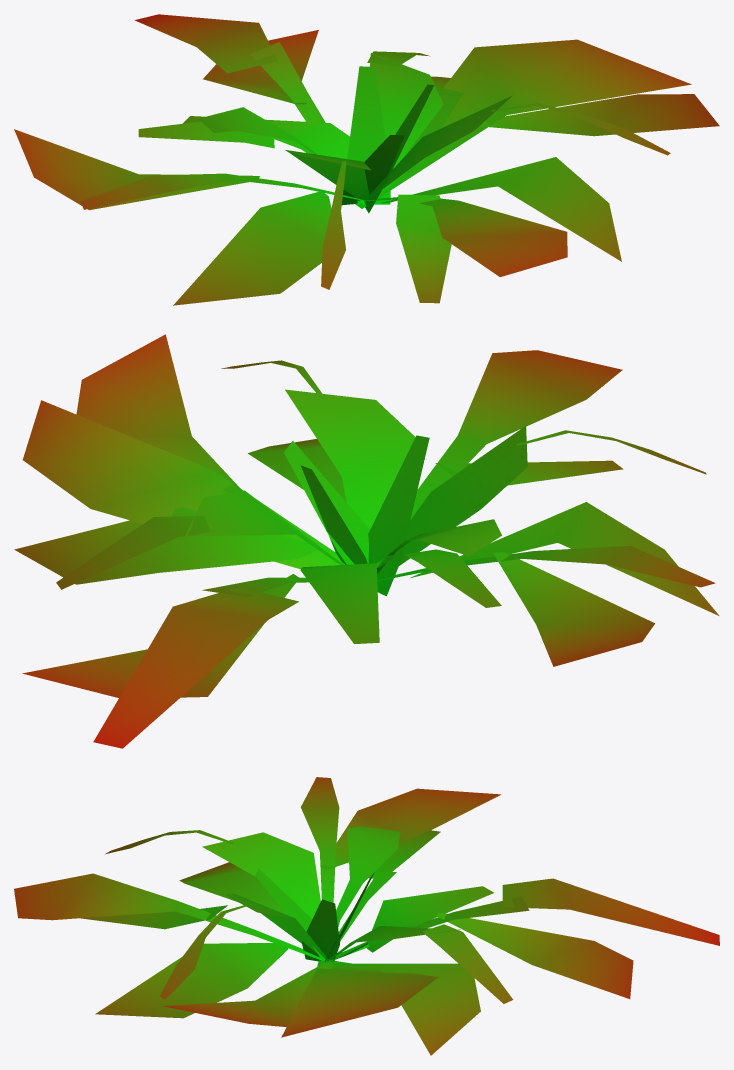
File: Var5_LOD3.fbx
3 views of the same model, one above another, from view 1: azimuth 30°, elevation 25°; view 2: azimuth 150°, elevation 25°; view 3: azimuth 270°, elevation 25° (orthographic). The views are drawn at different scales.
Parts seen in each view (by area): view 1: _4a83_Var5_LOD3; view 2: _4a83_Var5_LOD3; view 3: _4a83_Var5_LOD3.
Boxes of the visible parts, x1,y1,x2,y2 form: _4a83_Var5_LOD3: [14, 14, 719, 305]; _4a83_Var5_LOD3: [14, 334, 719, 748]; _4a83_Var5_LOD3: [14, 777, 719, 1055].
Size of the model in its own units: 54.97 by 10.51 by 63.74.
